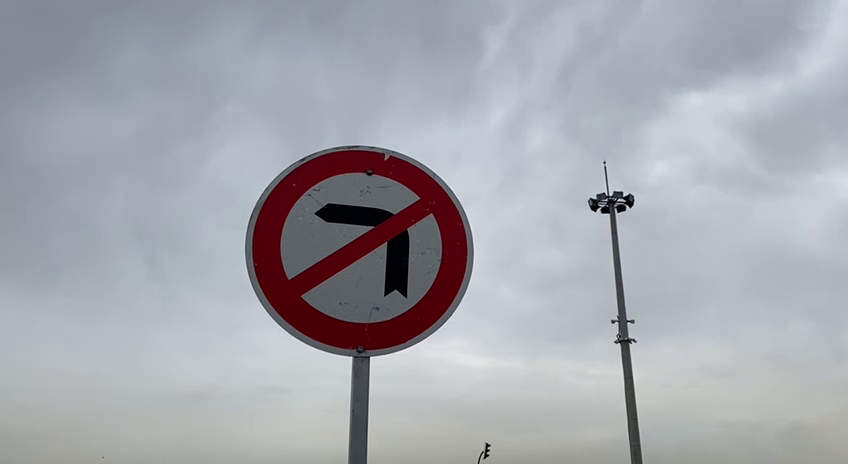noTurnLeft: (240, 139, 481, 362)
